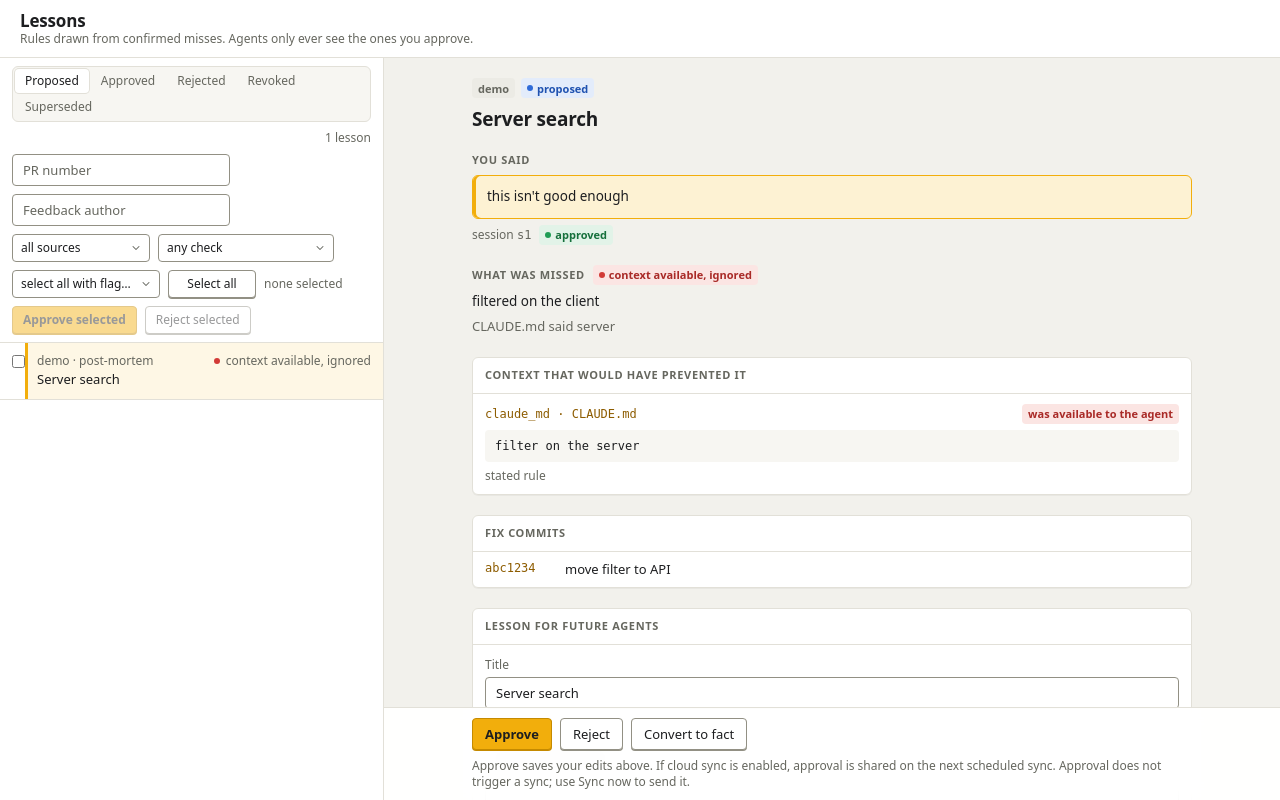
Test: the server's reason is shown when a change is refused
This screenshot has width=1280, height=800.
Step 1. Click the button "Approve" → (512, 734), box top-left (472, 718), bottom-right (552, 750)
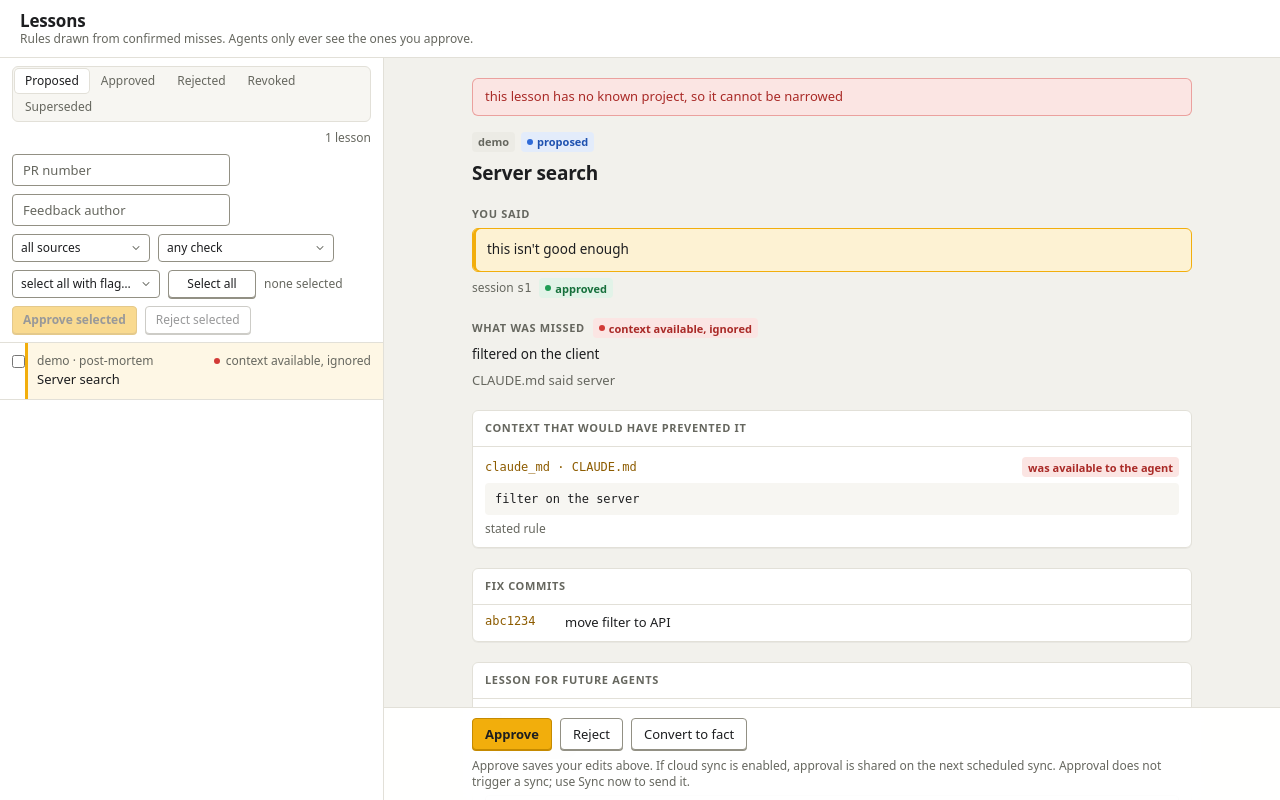
Now the text "this lesson has no known project, so it cannot be narrowed" is shown, box top-left (472, 78), bottom-right (1192, 116)
